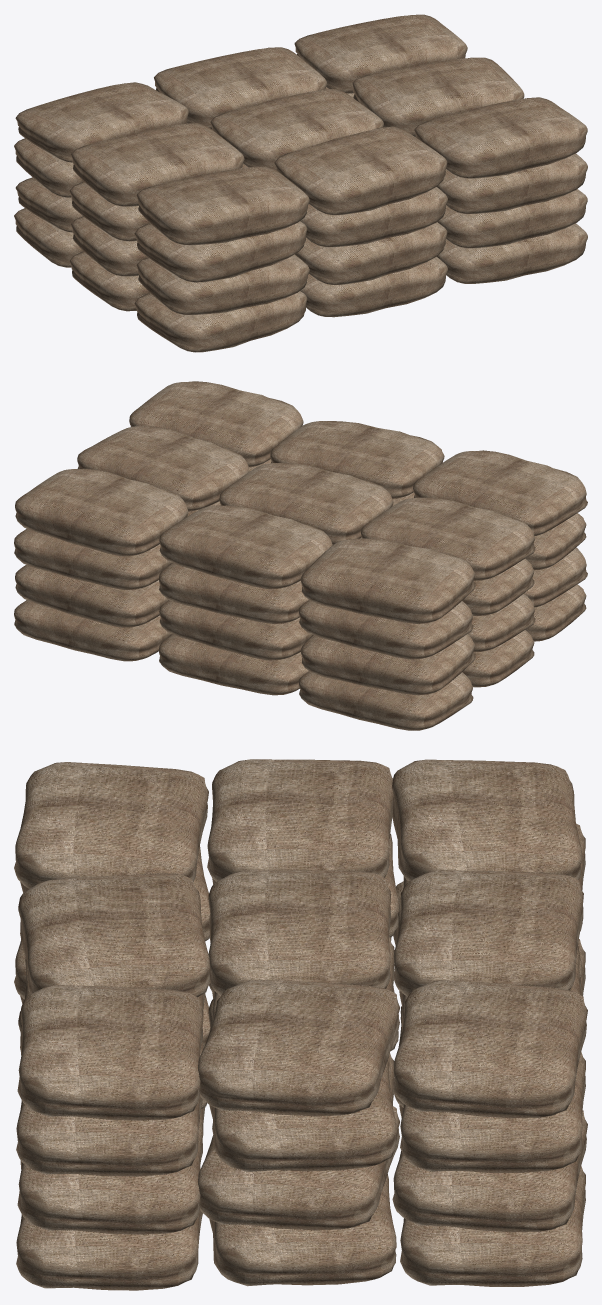
The model's file is cement bag_plateform.fbx.
3 renders of one model, top to bottom at view 1: azimuth 30°, elevation 25°; view 2: azimuth 150°, elevation 25°; view 3: azimuth 270°, elevation 25°, orthographic. The views are drawn at different scales.
Visible parts, largest first — view 1: Cube.030, Cube.031, Cube.032, Cube.028, Cube.029, Cube.033, Cube.035, Cube.027, Cube.034, Cube.013, Cube.004, Cube.022 (+12 smaller); view 2: Cube.034, Cube.035, Cube.033, Cube.031, Cube.032, Cube.029, Cube.028, Cube.027, Cube.030, Cube.016, Cube.025, Cube.007 (+12 smaller); view 3: Cube.029, Cube.035, Cube.032, Cube.033, Cube.031, Cube.027, Cube.030, Cube.034, Cube.028, Cube.011, Cube.017, Cube.002 (+8 smaller).
Boxes of the visible parts, x1,y1,x2,y2 form: Cube.030: [274, 126, 447, 215]; Cube.031: [136, 166, 309, 245]; Cube.032: [414, 97, 587, 178]; Cube.028: [71, 123, 244, 206]; Cube.029: [352, 57, 524, 137]; Cube.033: [154, 47, 326, 129]; Cube.035: [294, 14, 467, 93]; Cube.027: [210, 89, 383, 169]; Cube.034: [15, 82, 188, 162]; Cube.013: [136, 254, 309, 315]; Cube.004: [134, 291, 307, 352]; Cube.022: [134, 221, 307, 282]; Cube.034: [301, 538, 475, 623]; Cube.035: [15, 468, 188, 556]; Cube.033: [159, 505, 332, 588]; Cube.031: [413, 450, 587, 536]; Cube.032: [129, 381, 303, 467]; Cube.029: [77, 426, 249, 511]; Cube.028: [361, 497, 535, 580]; Cube.027: [219, 462, 393, 544]; Cube.030: [270, 421, 444, 498]; Cube.016: [301, 634, 475, 695]; Cube.025: [299, 600, 473, 659]; Cube.007: [299, 671, 473, 730]; Cube.029: [198, 979, 399, 1116]; Cube.035: [392, 980, 587, 1118]; Cube.032: [17, 985, 203, 1120]; Cube.033: [393, 870, 583, 996]; Cube.031: [14, 762, 208, 888]; Cube.027: [208, 870, 390, 995]; Cube.030: [18, 873, 209, 997]; Cube.034: [392, 759, 582, 881]; Cube.028: [207, 759, 393, 881]; Cube.011: [198, 1106, 399, 1230]; Cube.017: [392, 1110, 587, 1232]; Cube.002: [209, 1174, 396, 1286].
Size of the model in its own units: 277 by 88.22 by 199.
